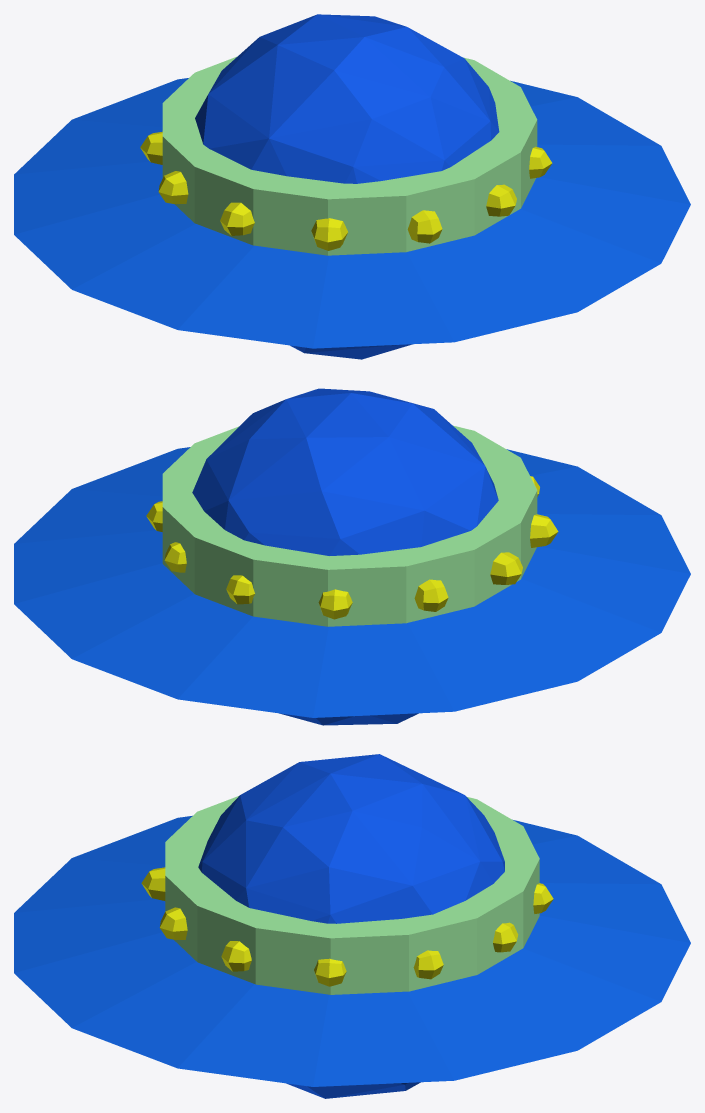
Rendered from UFO.fbx.
3 renders of one model, top to bottom at view 1: azimuth 30°, elevation 25°; view 2: azimuth 150°, elevation 25°; view 3: azimuth 270°, elevation 25°, orthographic.
Parts seen in each view (by area): view 1: 锥体.001, 棱角球, 柱体, 立方体; view 2: 锥体.001, 棱角球, 柱体, 立方体; view 3: 锥体.001, 棱角球, 柱体, 立方体.
Part boxes in pixels (box(x1,y1,x2,y2)): 锥体.001: box(14, 78, 690, 348); 棱角球: box(195, 14, 499, 359); 柱体: box(162, 56, 537, 255); 立方体: box(140, 131, 552, 250); 锥体.001: box(14, 447, 690, 717); 棱角球: box(192, 388, 498, 725); 柱体: box(162, 425, 537, 626); 立方体: box(146, 476, 558, 619); 锥体.001: box(14, 815, 690, 1086); 棱角球: box(198, 754, 504, 1098); 柱体: box(165, 796, 539, 994); 立方体: box(141, 867, 553, 986).
Size of the model in its own units: 298 by 151 by 297.
